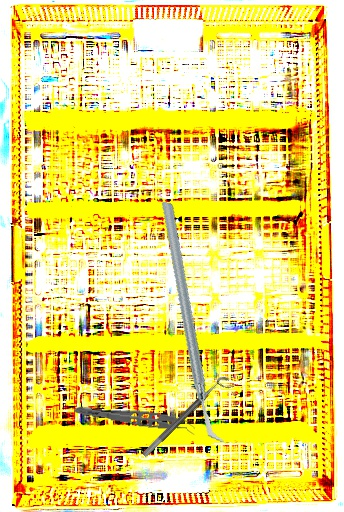Chopper: (110, 200, 277, 444)
Fixation Ring: (141, 372, 236, 465)
Tissue Forceps: (72, 403, 197, 437)
